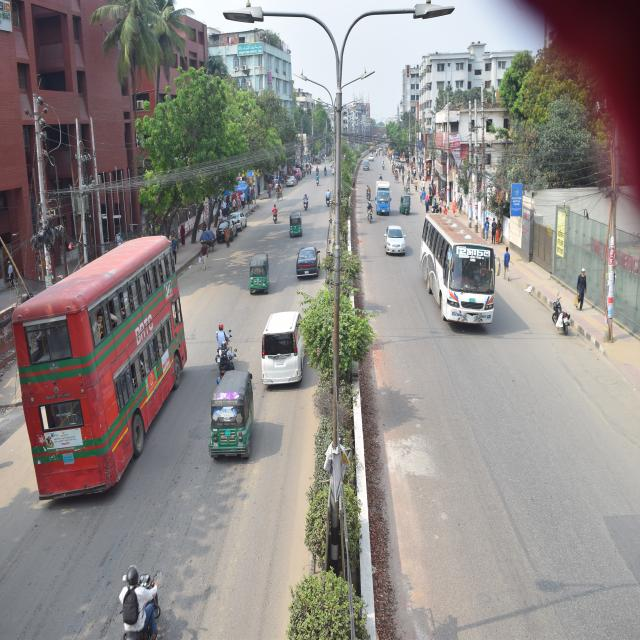bus: (30, 233, 195, 502), (412, 208, 506, 338)
car: (296, 237, 322, 284), (384, 217, 409, 262), (212, 212, 240, 249), (230, 208, 253, 230)
microbus: (257, 303, 314, 399)
motorbike: (106, 561, 172, 640), (212, 347, 240, 384), (549, 294, 573, 337), (269, 203, 280, 228), (300, 194, 312, 212), (366, 204, 374, 227), (368, 184, 372, 202)
pickup-van: (373, 176, 396, 216)
